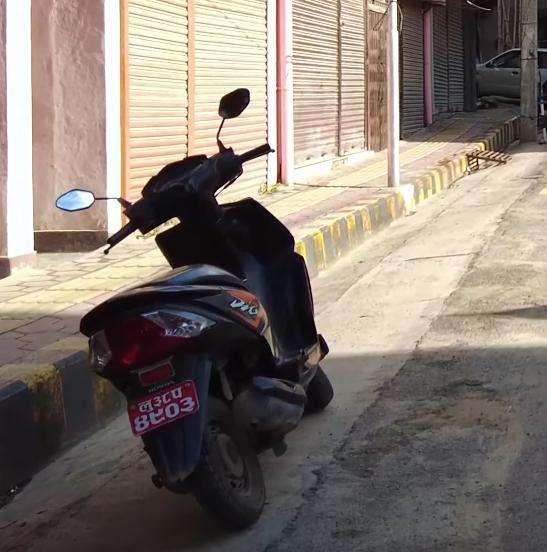scooter: (50, 84, 337, 536)
